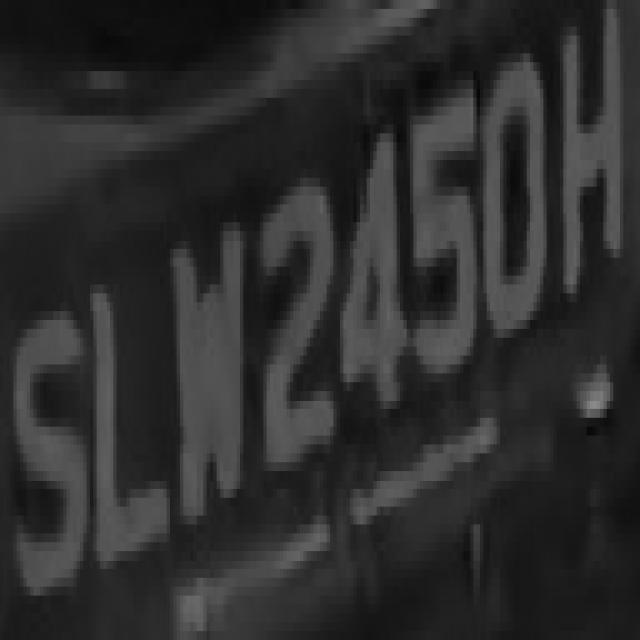0: (477, 54, 550, 374)
2: (260, 169, 340, 480)
4: (327, 116, 413, 444)
5: (410, 71, 483, 409)
H: (557, 0, 623, 320)
L: (93, 249, 170, 560)
S: (10, 311, 90, 622)
W: (166, 222, 256, 551)
